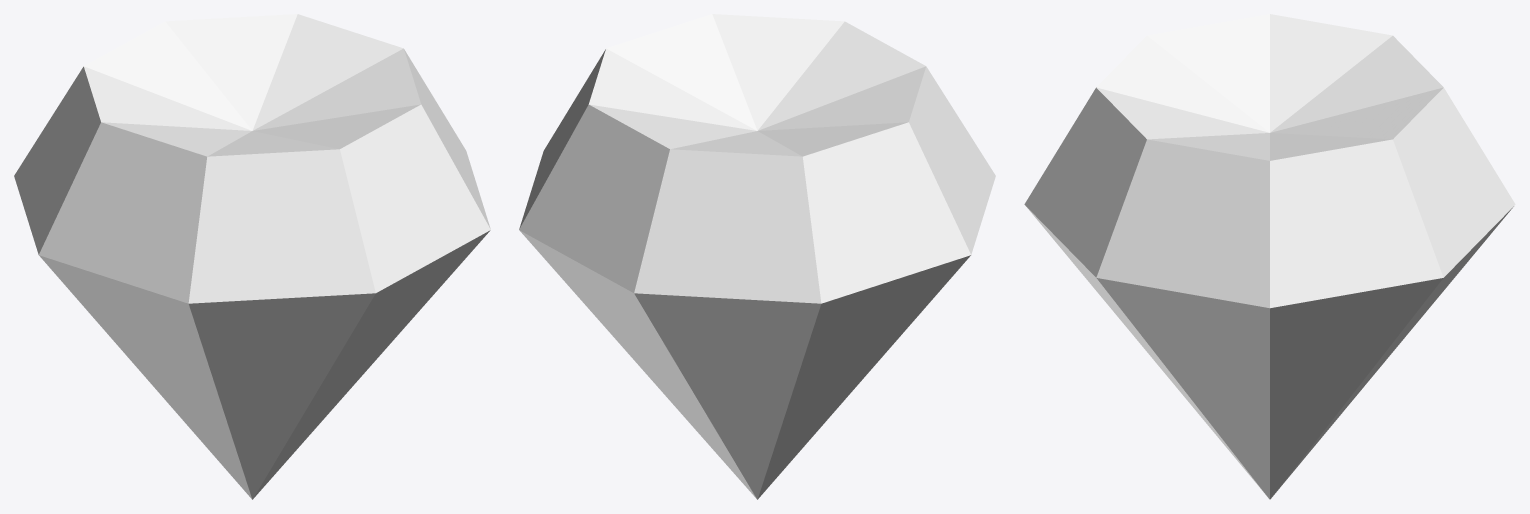
Rendered from Ingredient.fbx.
3 renders of one model, left to right at view 1: azimuth 30°, elevation 25°; view 2: azimuth 150°, elevation 25°; view 3: azimuth 270°, elevation 25°, orthographic.
Parts seen in each view (by area): view 1: Cone.012; view 2: Cone.012; view 3: Cone.012.
Part boxes in pixels (x1,y1,x2,y2): Cone.012: (14,14,490,499); Cone.012: (519,14,995,499); Cone.012: (1024,14,1515,499).
Bounding box in the file's own units: 56.97 × 52.79 × 56.97.
